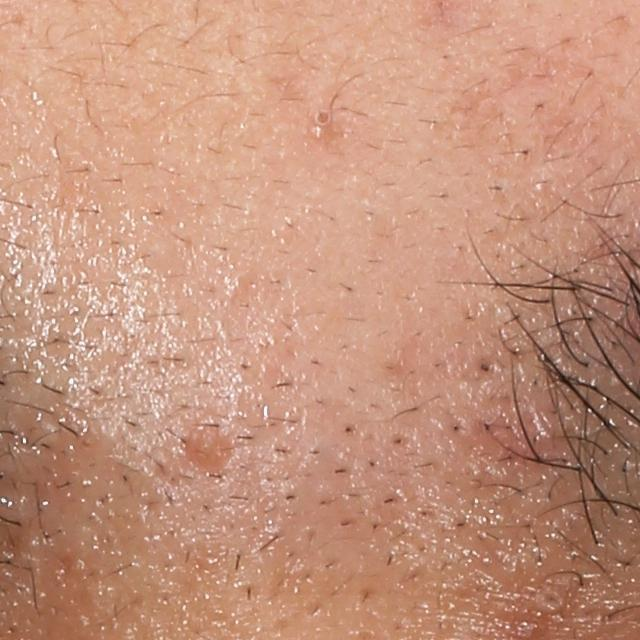atrophic_scar: (175, 419, 241, 477)
comedo: (310, 106, 337, 141)
